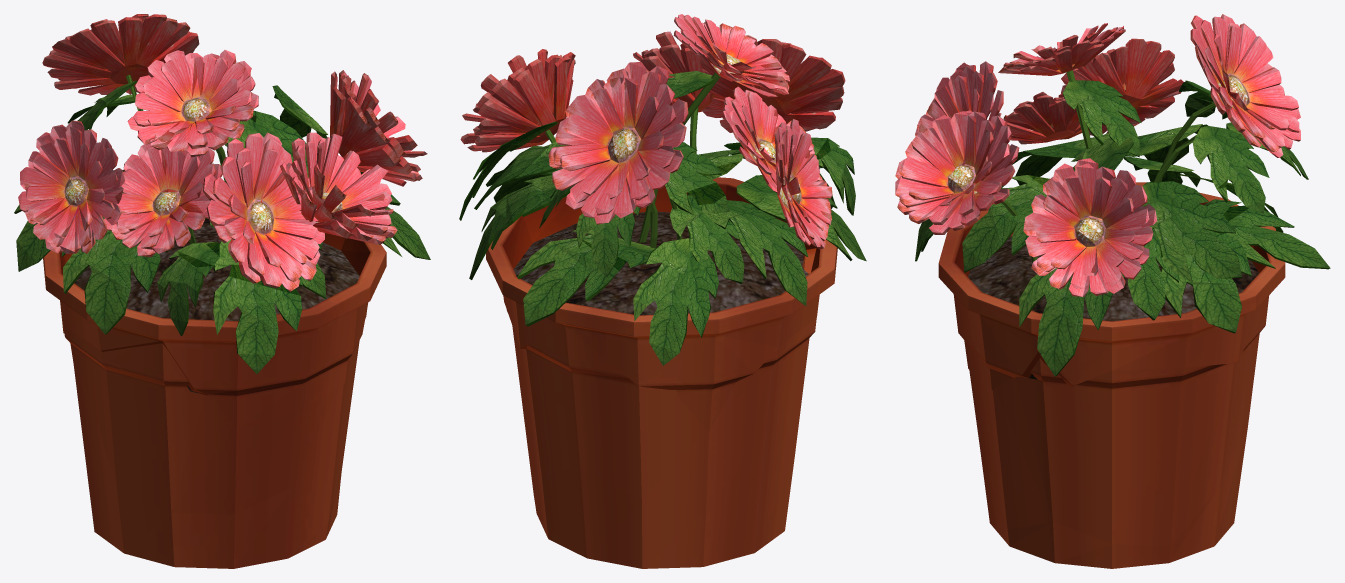
The model's file is Flower Pot (DR2).obj.
3 views of the same model, side by side, from view 1: azimuth 30°, elevation 25°; view 2: azimuth 150°, elevation 25°; view 3: azimuth 270°, elevation 25° (orthographic). The views are drawn at different scales.
Parts seen in each view (by area): view 1: Mesh_0742.rip_Tex_028_Mesh_0742.rip_Tex_028_Tex_0287_0.dds.002_p, Mesh_0742.rip_Tex_028_Mesh_0742.rip_Tex_028_Tex_0287_0.dds_pot1., Mesh_0742.rip_Tex_028_Mesh_0742.rip_Tex_028_Tex_0287_0.dds.001_p; view 2: Mesh_0742.rip_Tex_028_Mesh_0742.rip_Tex_028_Tex_0287_0.dds.002_p, Mesh_0742.rip_Tex_028_Mesh_0742.rip_Tex_028_Tex_0287_0.dds_pot1., Mesh_0742.rip_Tex_028_Mesh_0742.rip_Tex_028_Tex_0287_0.dds.001_p; view 3: Mesh_0742.rip_Tex_028_Mesh_0742.rip_Tex_028_Tex_0287_0.dds.002_p, Mesh_0742.rip_Tex_028_Mesh_0742.rip_Tex_028_Tex_0287_0.dds_pot1., Mesh_0742.rip_Tex_028_Mesh_0742.rip_Tex_028_Tex_0287_0.dds.001_p.
Boxes of the visible parts, box(x1,y1,x2,y2) form: Mesh_0742.rip_Tex_028_Mesh_0742.rip_Tex_028_Tex_0287_0.dds.002_p: box(14, 14, 430, 427); Mesh_0742.rip_Tex_028_Mesh_0742.rip_Tex_028_Tex_0287_0.dds_pot1.: box(64, 309, 367, 521); Mesh_0742.rip_Tex_028_Mesh_0742.rip_Tex_028_Tex_0287_0.dds.001_p: box(71, 344, 341, 568); Mesh_0742.rip_Tex_028_Mesh_0742.rip_Tex_028_Tex_0287_0.dds.002_p: box(459, 14, 866, 431); Mesh_0742.rip_Tex_028_Mesh_0742.rip_Tex_028_Tex_0287_0.dds_pot1.: box(507, 248, 816, 509); Mesh_0742.rip_Tex_028_Mesh_0742.rip_Tex_028_Tex_0287_0.dds.001_p: box(534, 366, 794, 568); Mesh_0742.rip_Tex_028_Mesh_0742.rip_Tex_028_Tex_0287_0.dds.002_p: box(895, 14, 1330, 390); Mesh_0742.rip_Tex_028_Mesh_0742.rip_Tex_028_Tex_0287_0.dds_pot1.: box(969, 232, 1269, 545); Mesh_0742.rip_Tex_028_Mesh_0742.rip_Tex_028_Tex_0287_0.dds.001_p: box(980, 427, 1247, 568).
Size of the model in its own units: 0.212 by 0.268 by 0.221.
Materials: 3 (3 with a texture image).
